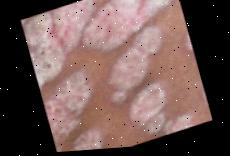plaque psoriasis: (21, 0, 112, 96), (95, 20, 176, 104), (38, 70, 111, 154), (71, 0, 181, 54), (122, 82, 175, 137), (179, 24, 208, 114), (155, 111, 197, 139), (190, 82, 212, 127), (21, 18, 33, 43)
